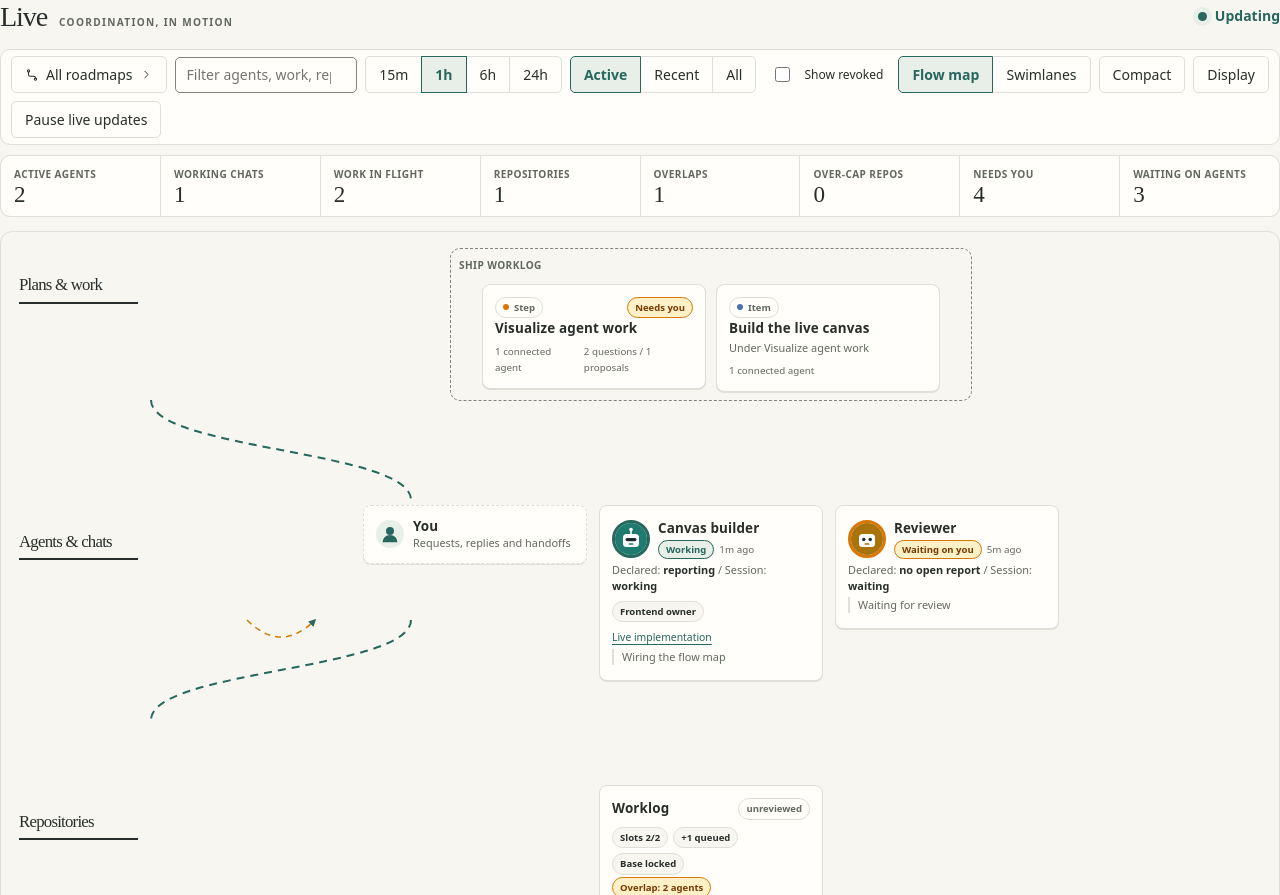
Test case: Live › isolates connected nodes, opens deep links, and clears the selection
Press Enter in the link "Live implementation", box [612,629,712,646]
Click the button that starts with "step" at (594, 336), box [482,284,706,389]
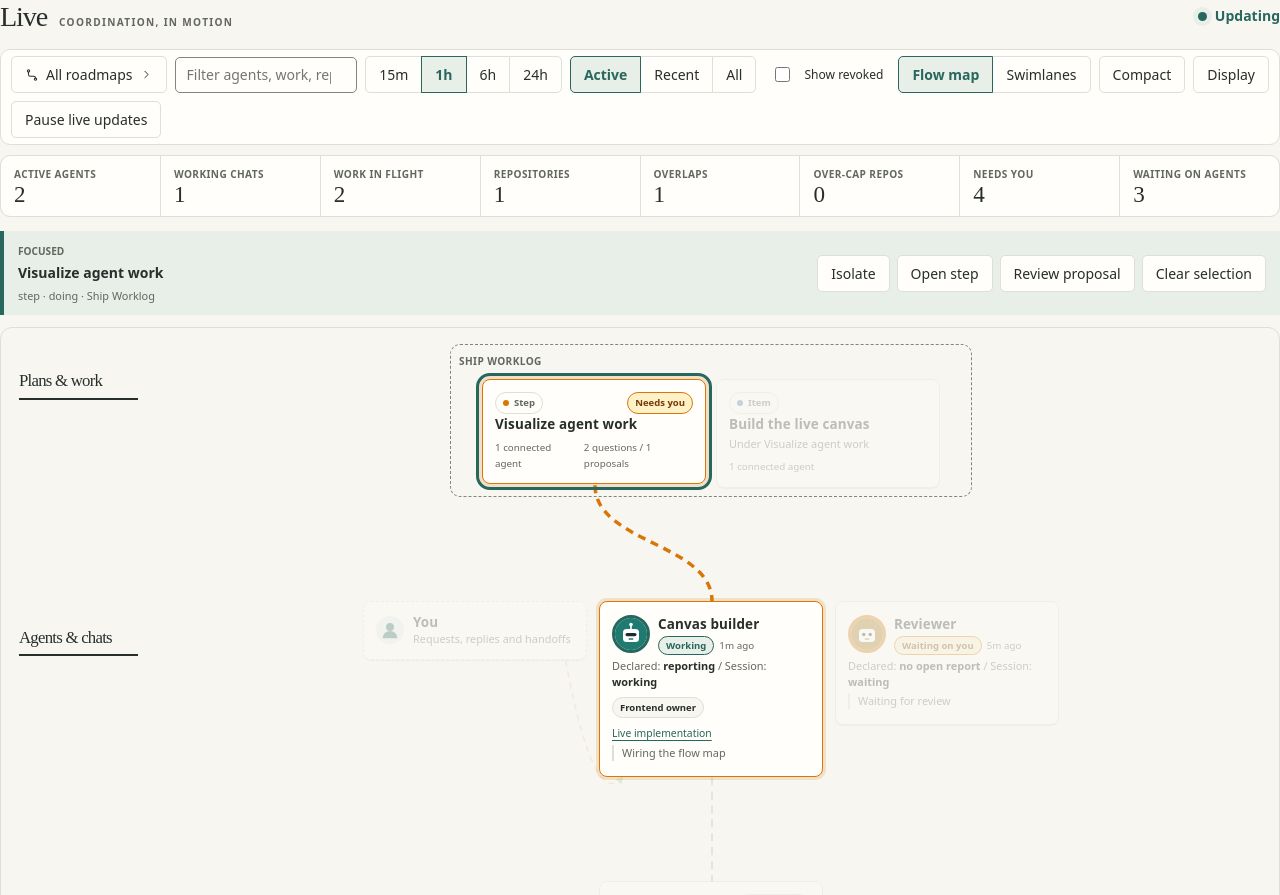
Expected: the element named "Selection inspector" is shown, [0,231,1279,315]
Note: Pressing Isolate hides unrelated cards instead of merely dimming them.
Click the button "Isolate" at (853, 273), box [817,255,890,292]
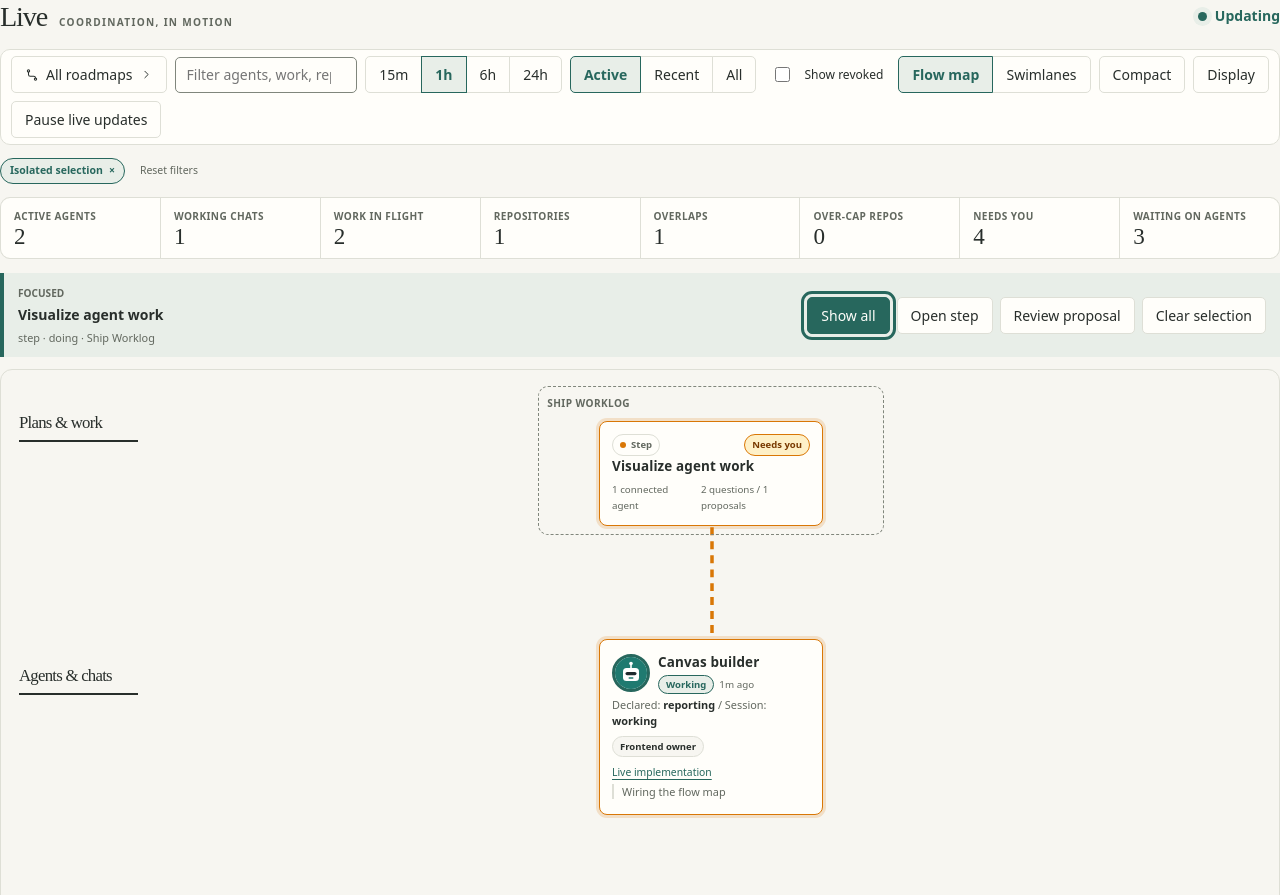
Expected: the button that starts with "Canvas builder" is shown, [599,639,823,815]
Click the button "Clear selection" at (1204, 315), box [1142,297,1266,334]
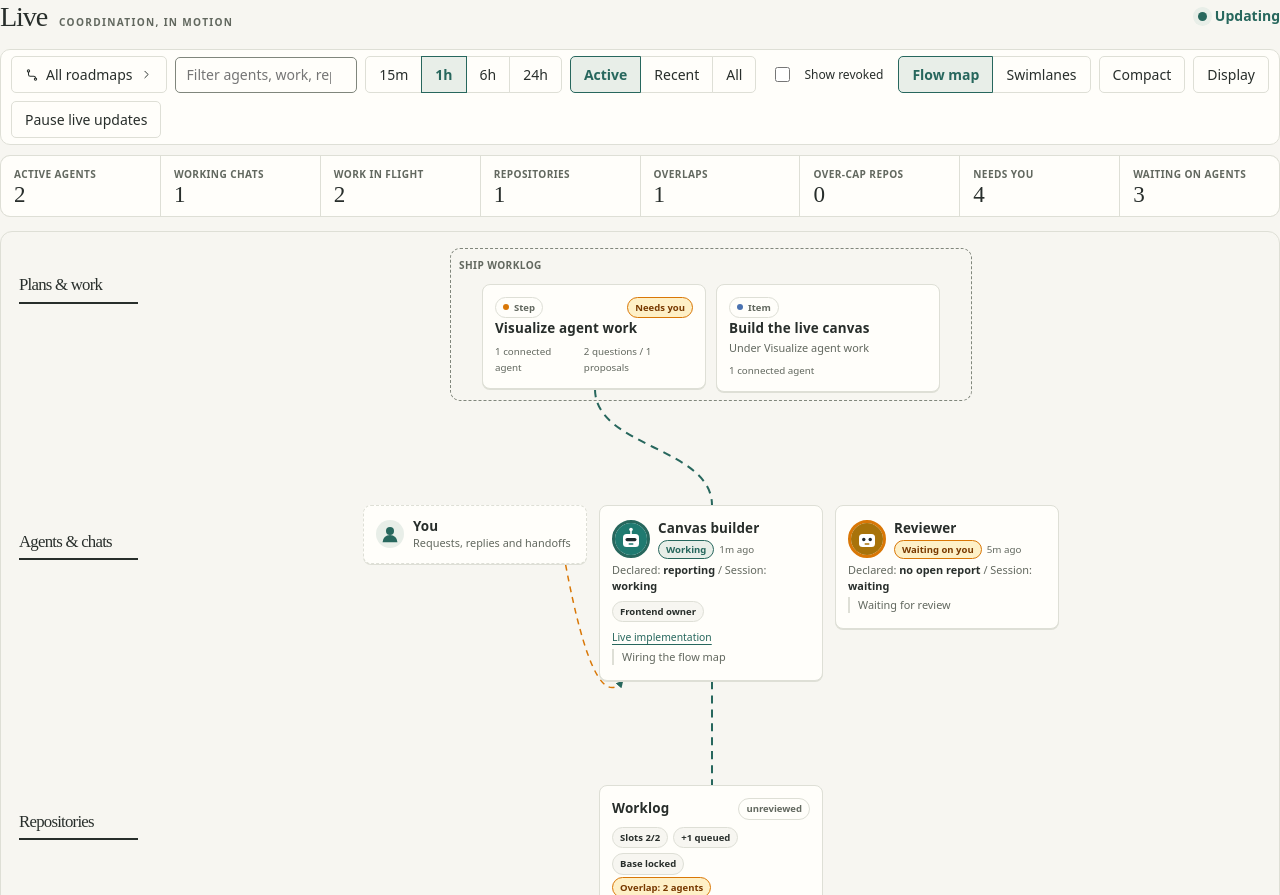
Expected: the button that starts with "Reviewer" is shown, [835,505,1059,629]
